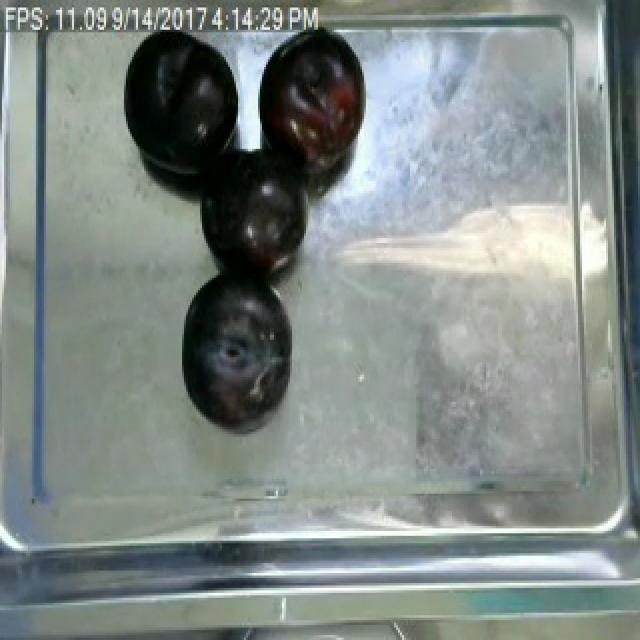Fruit: (118, 25, 248, 186), (248, 30, 378, 186), (176, 263, 296, 429), (192, 136, 314, 288)
